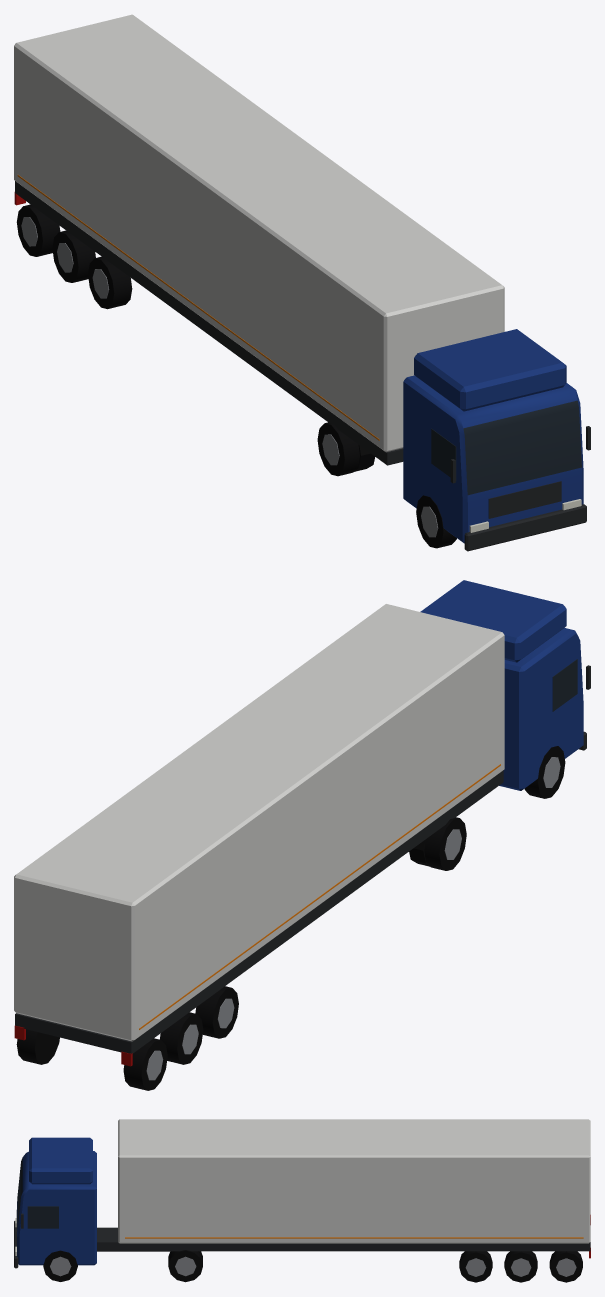
The model's file is semi_remorque.glb.
The picture shows the model from 3 angles, top to bottom: view 1: azimuth 30°, elevation 25°; view 2: azimuth 150°, elevation 25°; view 3: azimuth 270°, elevation 25°; orthographic projection. The views are drawn at different scales.
Visible parts, largest first — view 1: semi_remorque; view 2: semi_remorque; view 3: semi_remorque.
Part boxes in pixels (x1,y1,x2,y2): semi_remorque: (14, 14, 590, 551); semi_remorque: (14, 580, 590, 1090); semi_remorque: (14, 1119, 590, 1282).
Bounding box in the file's own units: 2.91 × 4 × 16.6.
